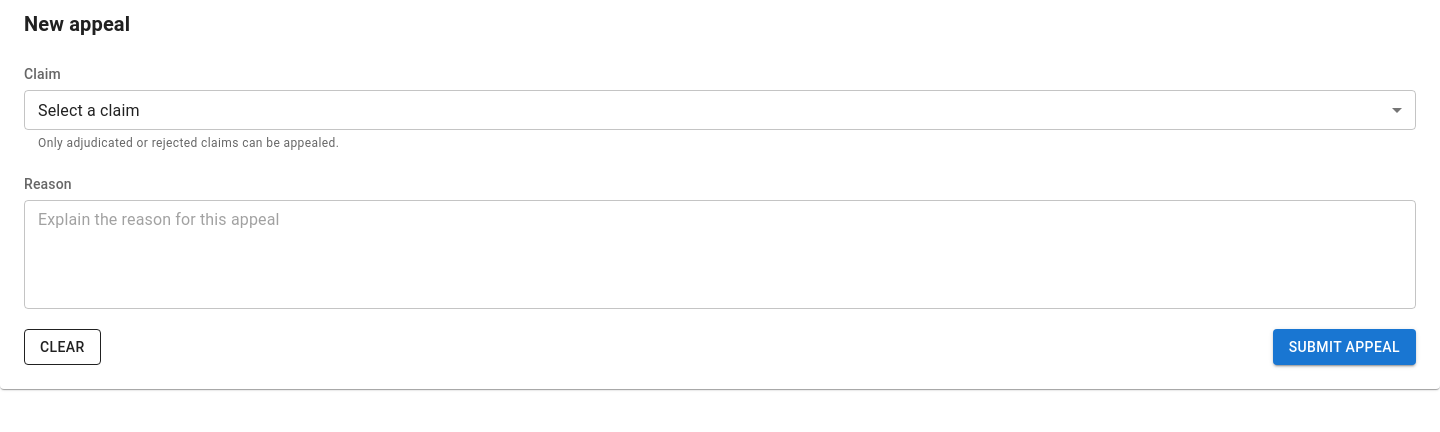
Test: CreateAppealForm › blocks submit when required fields are missing
This screenshot has width=1440, height=432.
Click the button "Submit appeal". click: [1344, 347]
box: left=1273, top=329, right=1416, bottom=365
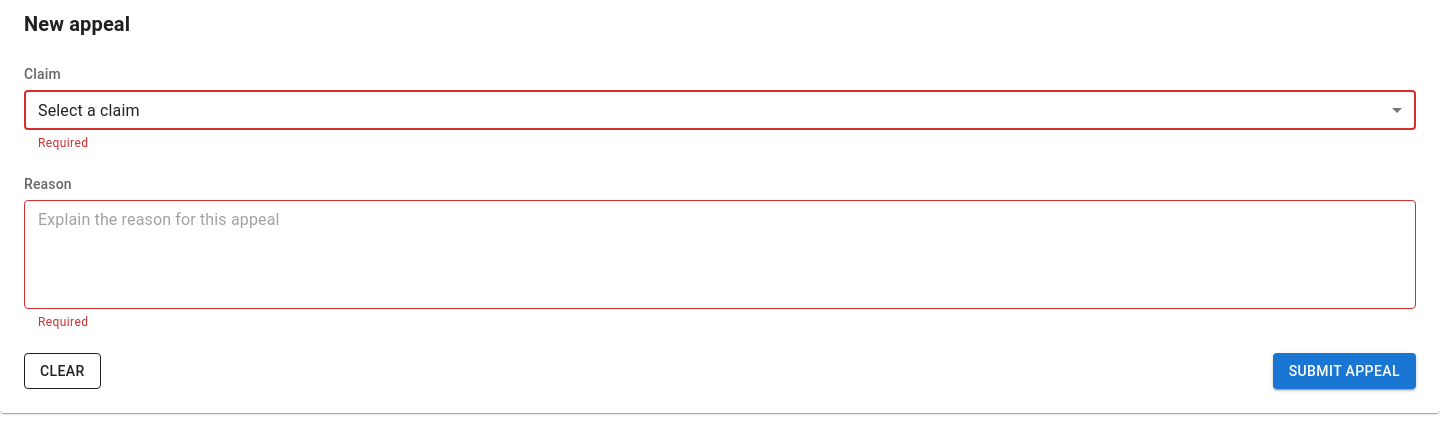
Expected: the text "Required" below "Claim" is shown, left=38, top=136, right=88, bottom=150
